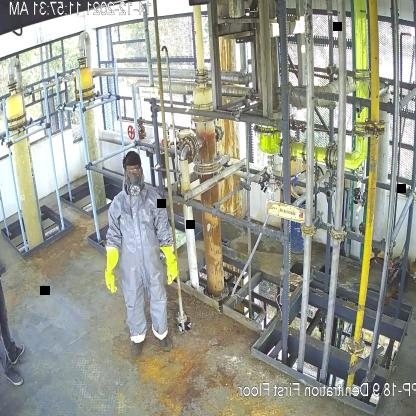goggles: (126, 166, 141, 176)
mask: (126, 175, 143, 199)
